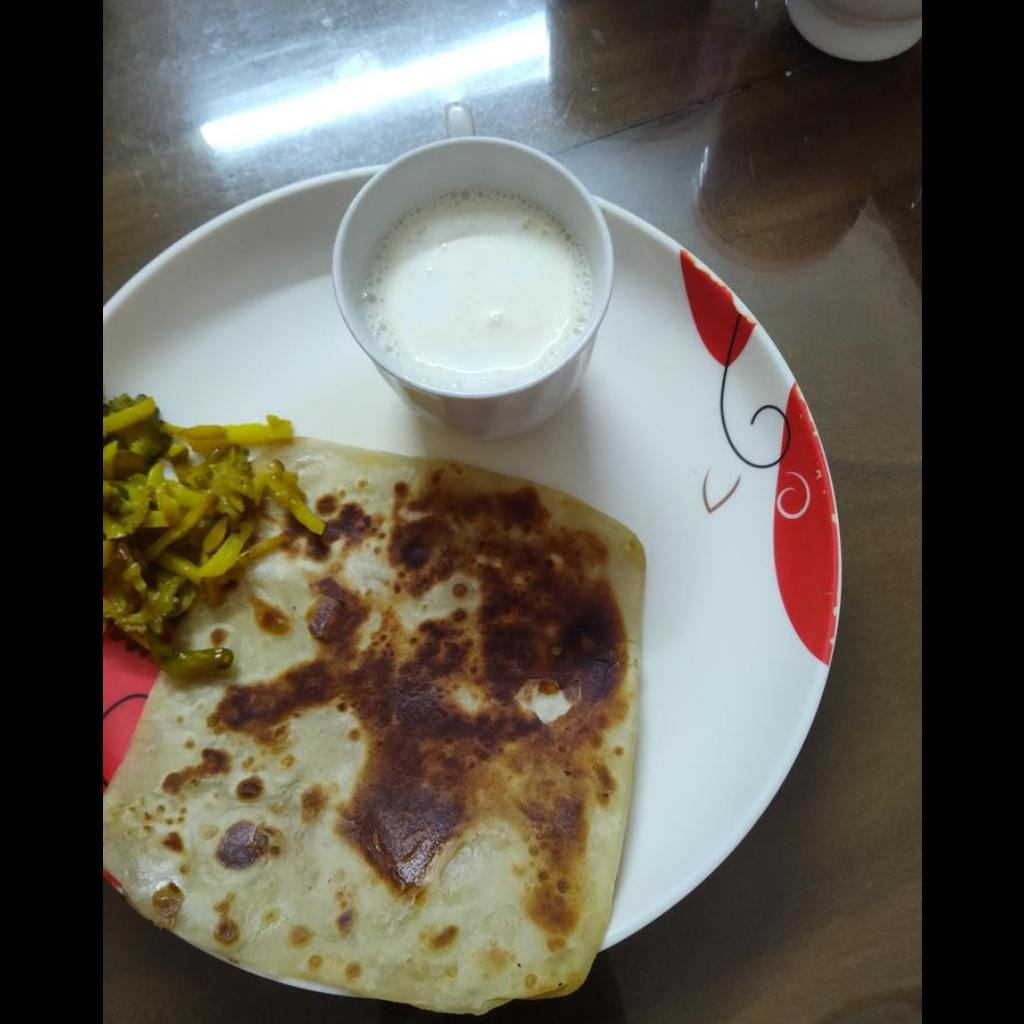milk: (365, 184, 589, 384)
ruti: (102, 439, 645, 1019)
vaji: (102, 391, 324, 654)
